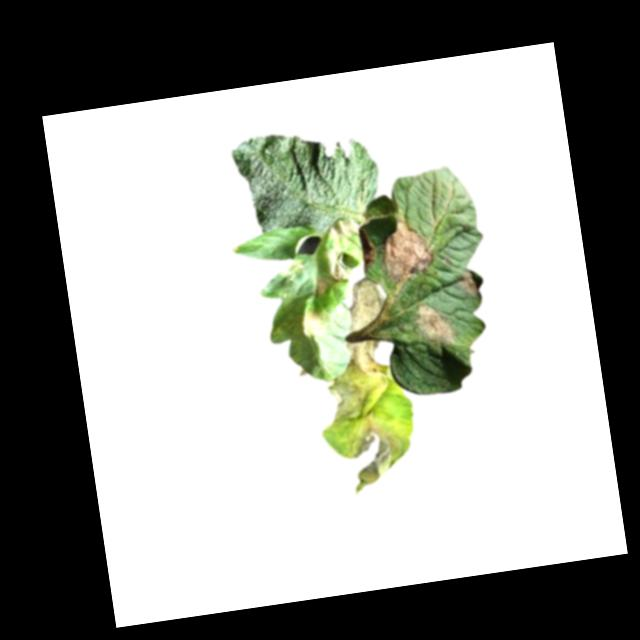Late_blight: (341, 414, 413, 496), (322, 359, 395, 424), (376, 215, 439, 286), (344, 274, 389, 334), (411, 296, 459, 352), (345, 333, 385, 367), (357, 225, 382, 273), (324, 248, 354, 284), (458, 265, 486, 300), (299, 306, 327, 335), (331, 214, 361, 236), (314, 273, 332, 295)
healthy: (228, 117, 387, 242)
